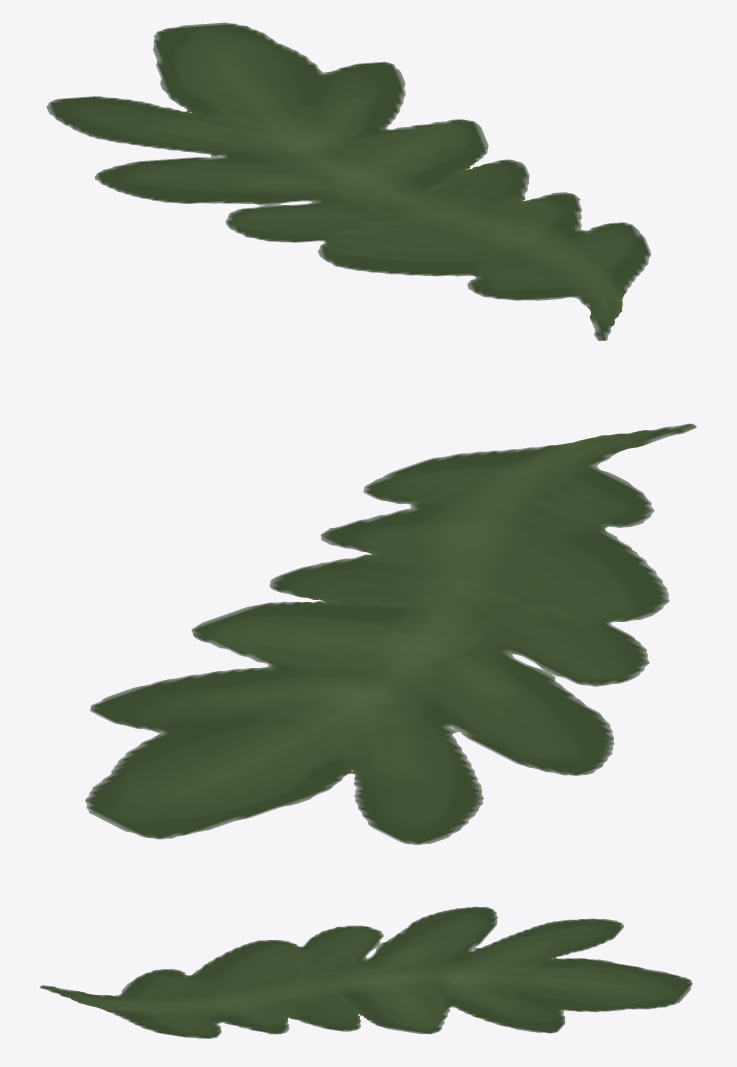
File: SM_TomatoGreen.fbx
The picture shows the model from 3 angles, top to bottom: view 1: azimuth 30°, elevation 25°; view 2: azimuth 150°, elevation 25°; view 3: azimuth 270°, elevation 25°; orthographic projection. The views are drawn at different scales.
Visible parts, largest first — view 1: Cylinder.006; view 2: Cylinder.006; view 3: Cylinder.006.
Boxes of the visible parts, <box> form: Cylinder.006: <box>46,22,651,340</box>; Cylinder.006: <box>85,423,696,844</box>; Cylinder.006: <box>39,906,692,1038</box>.
Size of the model in its own units: 18.54 by 0 by 36.06.
